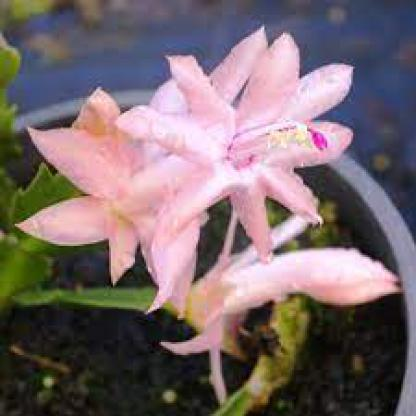Aglonema: (35, 74, 403, 284)
